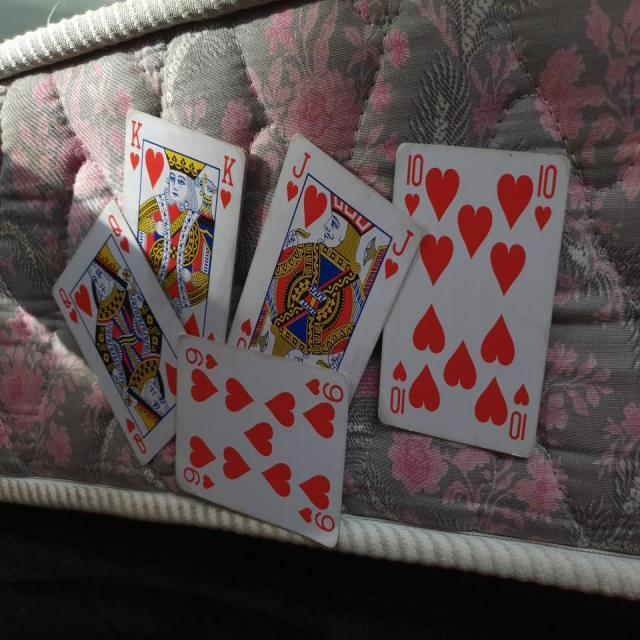10 of hearts: (377, 140, 572, 456)
9 of hearts: (168, 320, 354, 550)
jack of hearts: (218, 127, 424, 416)
king of hearts: (118, 102, 253, 348)
queen of hearts: (56, 203, 198, 478)
